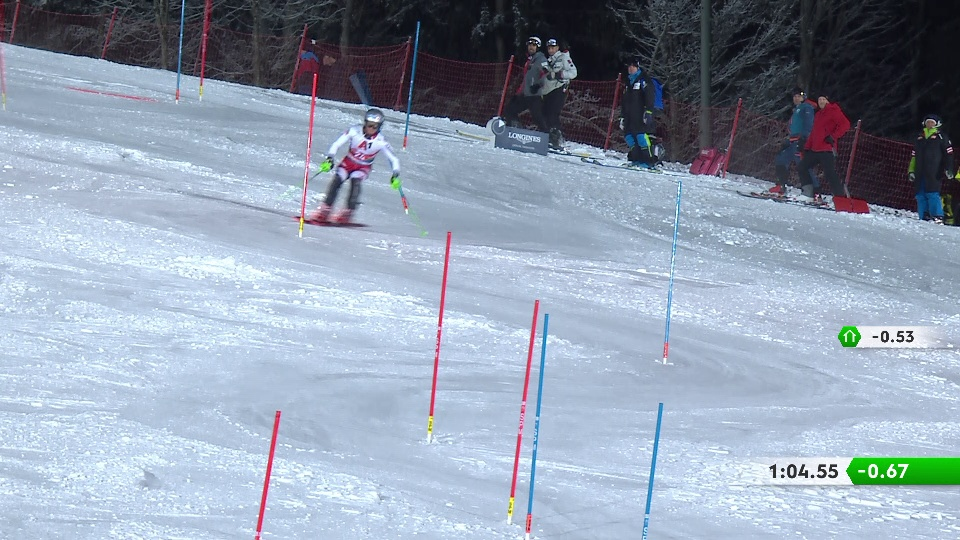a1: (358, 139, 375, 153)
longines: (501, 130, 546, 150)
